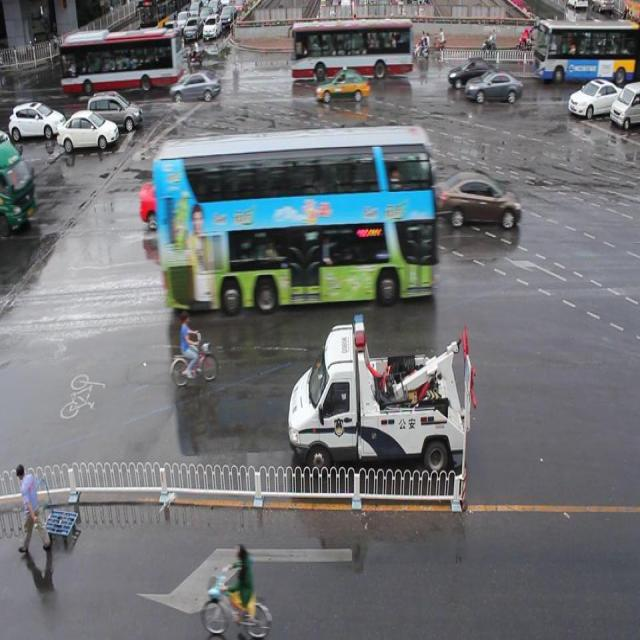car: (437, 169, 520, 229), (140, 175, 216, 229), (366, 148, 438, 190), (566, 78, 623, 118), (464, 68, 522, 106), (314, 68, 370, 106), (170, 69, 221, 103), (447, 58, 501, 90)
van: (158, 126, 431, 302), (289, 20, 412, 80), (534, 18, 640, 84)
